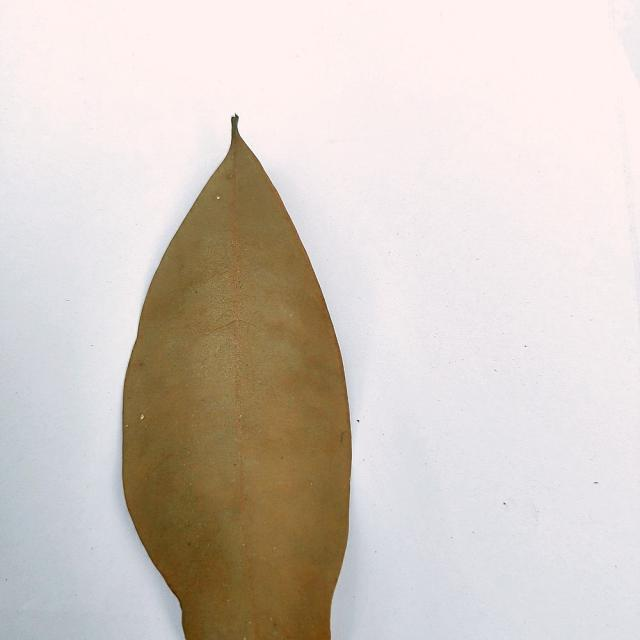Dry_Leaf-Lychee: (120, 117, 354, 639)
